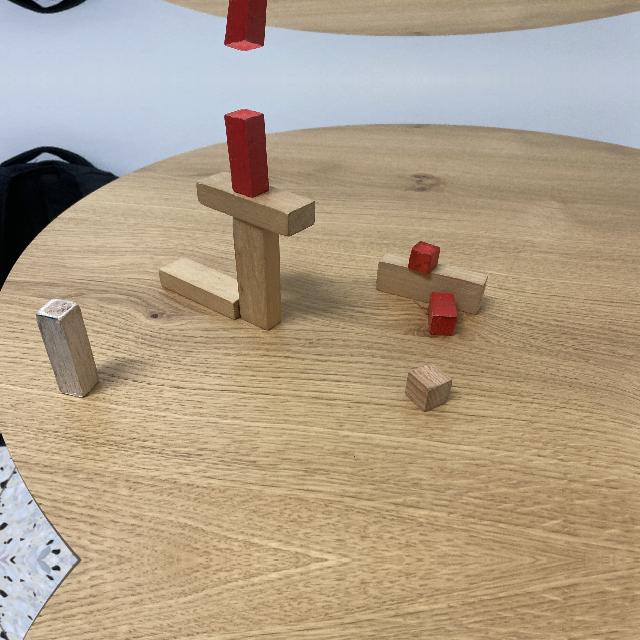block: (35, 299, 99, 399)
cube: (405, 364, 452, 412)
jenga: (196, 172, 316, 331), (376, 254, 488, 314), (232, 219, 281, 331), (158, 258, 240, 320)
red block: (224, 110, 270, 200), (224, 0, 268, 50), (429, 292, 458, 336)
red cube: (408, 241, 440, 274)
